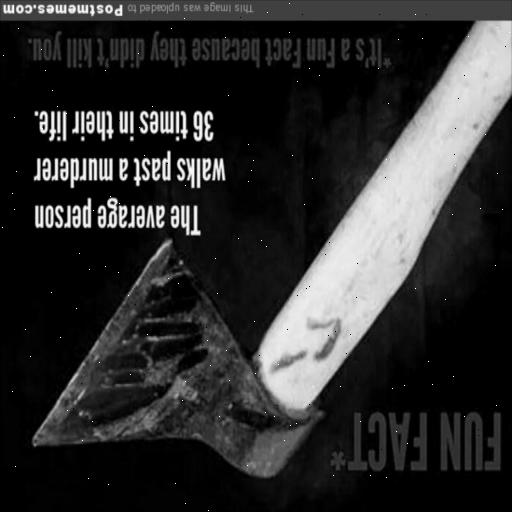Axe: (30, 18, 512, 483)
